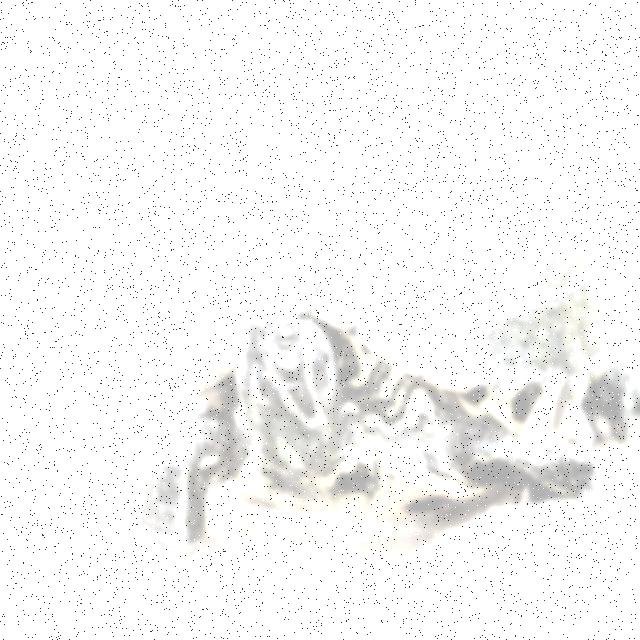tortoise: (128, 246, 624, 552)
